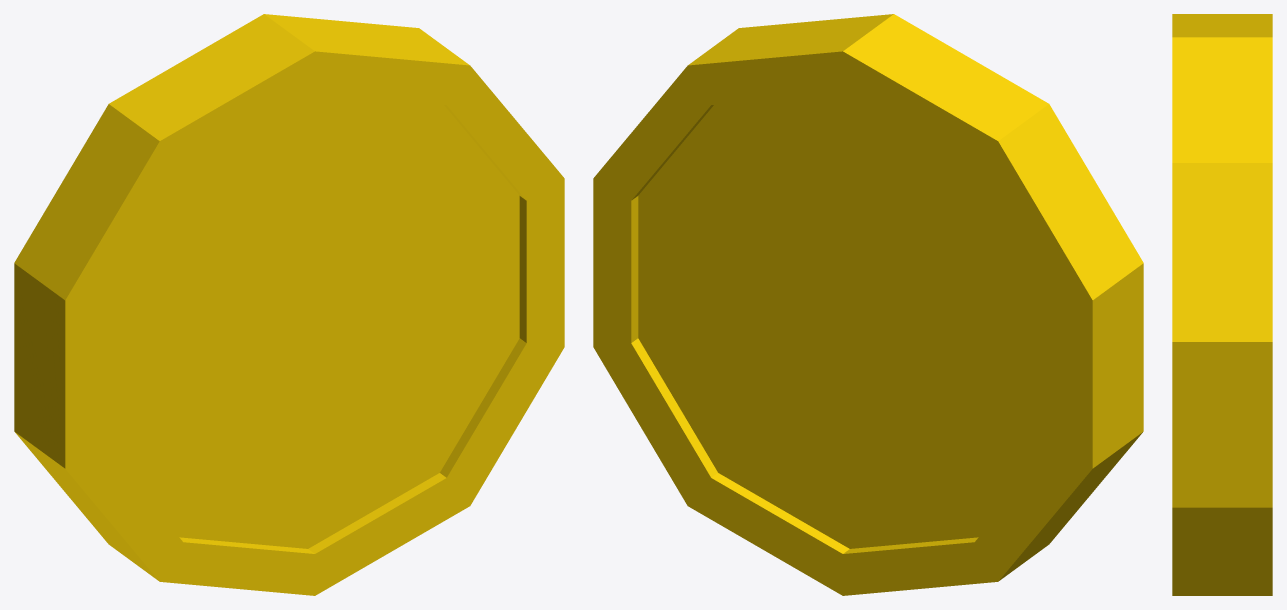
File: Coin.fbx
3 renders of one model, left to right at view 1: azimuth 30°, elevation 25°; view 2: azimuth 150°, elevation 25°; view 3: azimuth 270°, elevation 25°, orthographic.
Parts seen in each view (by area): view 1: Coin; view 2: Coin; view 3: Coin.
Part boxes in pixels (left/top/right/bottom): Coin: left=14, top=14, right=564, bottom=595; Coin: left=593, top=14, right=1143, bottom=595; Coin: left=1172, top=14, right=1272, bottom=595.
Size of the model in its own units: 4.88 by 5.09 by 0.8653.
